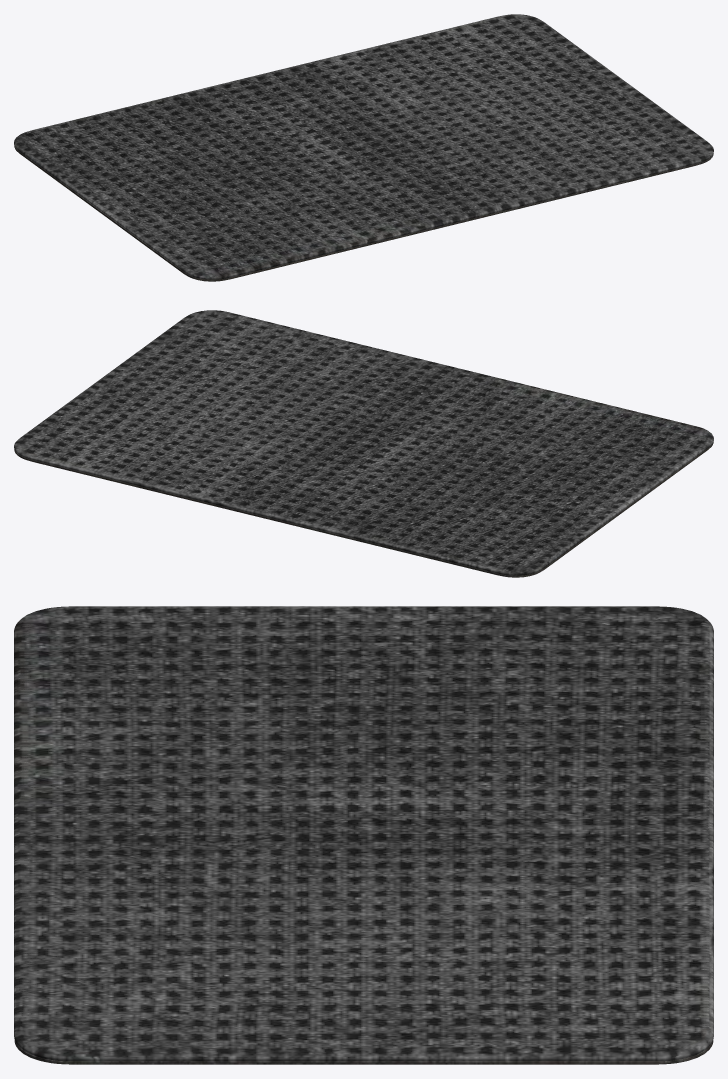
File: 08 - FRIKTION Door mat - grey 38x58 cm.glb
3 renders of one model, top to bottom at view 1: azimuth 30°, elevation 25°; view 2: azimuth 150°, elevation 25°; view 3: azimuth 270°, elevation 25°, orthographic. The views are drawn at different scales.
Visible parts, largest first — view 1: Mesh_0; view 2: Mesh_0; view 3: Mesh_0.
Boxes of the visible parts, x1=… form: Mesh_0: x1=14, y1=14, x2=713, y2=281; Mesh_0: x1=14, y1=310, x2=713, y2=577; Mesh_0: x1=14, y1=606, x2=713, y2=1064.
Size of the model in its own units: 0.58 by 0.00538 by 0.38.
1 material, 1 textured.
